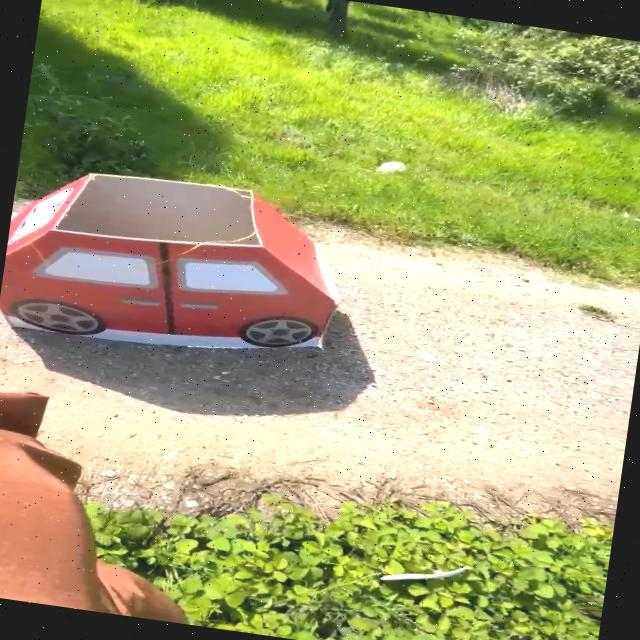red_car: (0, 150, 375, 397)
